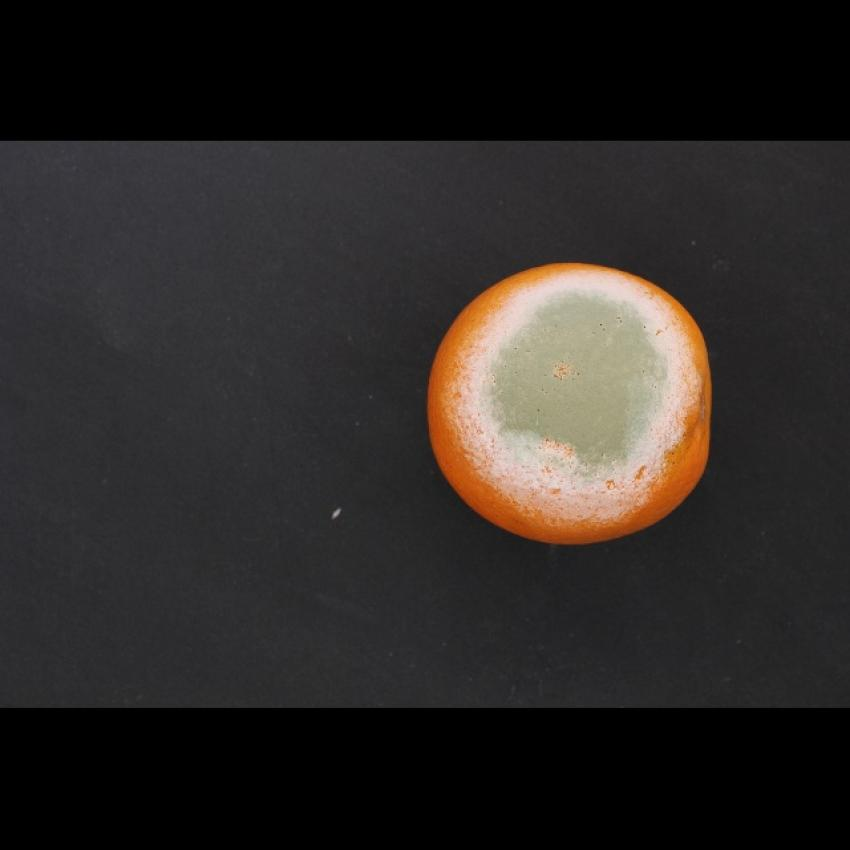Mal estado: (410, 258, 724, 550)
